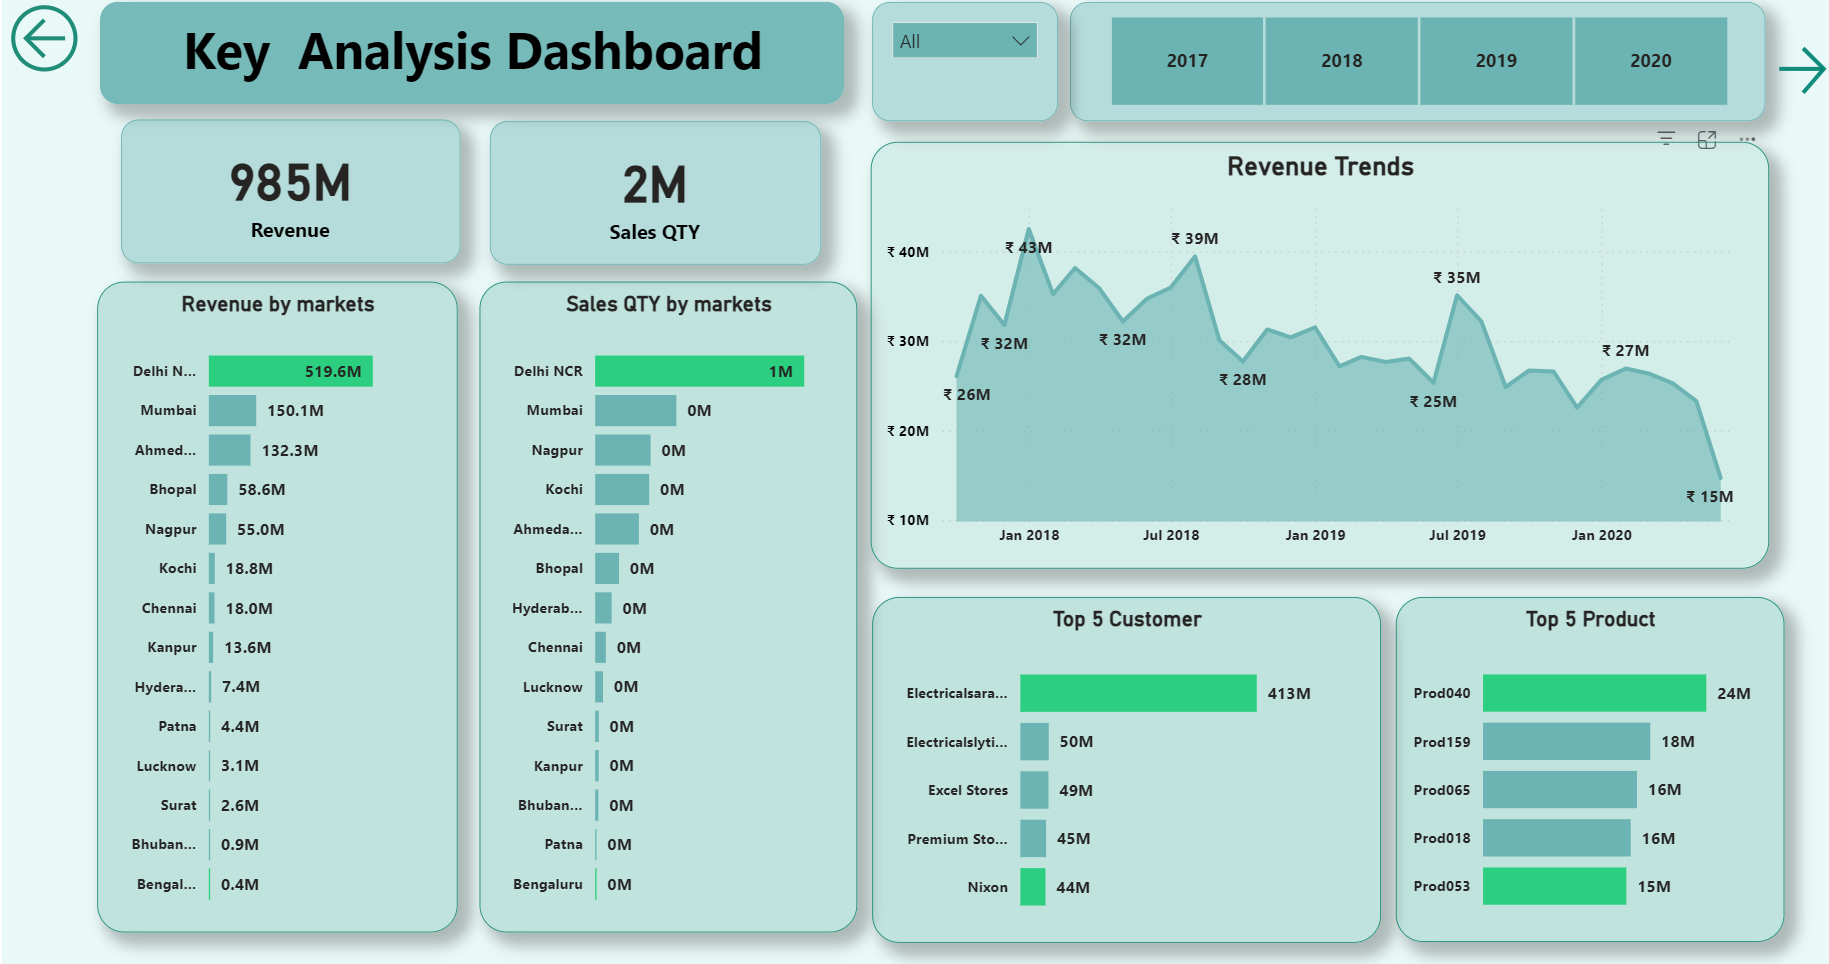

The page's visual inventory and layout, read from the dashboard file:
{"tool":"powerbi","page":{"name":"Key insight","canvas":[1352,720],"ordinal":1},"visuals":[{"type":"slicer","fields":{"Values":["sales date.year"]},"box":[788.9,4.6,513.8,88.2],"z":0},{"type":"card","title":"Revenue","fields":{"Values":["Basemeasure.Revenue"]},"box":[88.1,91.2,250.8,106.4],"z":0,"group":"g1"},{"type":"slicer","fields":{"Values":["sales date.cy_date"]},"box":[643,4.6,136.8,88.2],"z":1000},{"type":"card","title":"Sales Qty","fields":{"Values":["Basemeasure.Sales QTY"]},"box":[360.2,92.7,244.7,106.4],"z":1000,"group":"g1"},{"type":"actionButton","box":[0,0,76.9,62.5],"z":2000},{"type":"clusteredBarChart","title":"Revenue by markets","fields":{"Y":["Basemeasure.Revenue"],"Category":["sales markets.markets_name"]},"box":[71.4,209.8,266,489.5],"z":2000,"group":"g1"},{"type":"textbox","box":[72.1,4.8,549.5,75.3],"z":3000},{"type":"clusteredBarChart","title":"Sales QTY by markets","fields":{"Y":["Basemeasure.Sales QTY"],"Category":["sales markets.markets_name"]},"box":[354.1,209.8,278.2,489.5],"z":3000,"group":"g1"},{"type":"actionButton","box":[1305.8,27.4,45.6,54.7],"z":4000},{"type":"group","id":"g1","title":"Group 1","box":[71.4,91.2,1245.5,608],"z":5000},{"type":"clusteredBarChart","title":"Top 5 Customer","fields":{"Y":["Basemeasure.Revenue"],"Category":["sales customers.custmer_name"]},"box":[643,443.9,375.5,255.4],"z":6000,"group":"g1"},{"type":"clusteredBarChart","title":"Top 5 Product","fields":{"Y":["Basemeasure.Revenue"],"Category":["sales products.product_code"]},"box":[1030.1,443.8,286.8,254.7],"z":7000,"group":"g1"},{"type":"lineChart","title":"Revenue Trends","fields":{"Y":["Basemeasure.Revenue"],"Category":["sales date.cy_date"]},"box":[642.4,107.3,663.3,315.6],"z":8000,"group":"g1"}]}

Visuals, with their boxes in screenshot pixels (x1, y1, x2, y2), scaled from the page's 1352x720 canvas onto the 1829x964 screenshot:
slicer - sales date.year: bbox=[1067, 6, 1762, 124]
"Revenue" card: bbox=[119, 122, 458, 265]
slicer - sales date.cy_date: bbox=[870, 6, 1055, 124]
"Sales Qty" card: bbox=[487, 124, 818, 267]
actionButton: bbox=[0, 0, 104, 84]
"Revenue by markets" clusteredBarChart: bbox=[97, 281, 456, 936]
textbox: bbox=[98, 6, 841, 107]
"Sales QTY by markets" clusteredBarChart: bbox=[479, 281, 855, 936]
actionButton: bbox=[1767, 37, 1828, 110]
"Group 1" group: bbox=[97, 122, 1782, 936]
"Top 5 Customer" clusteredBarChart: bbox=[870, 594, 1378, 936]
"Top 5 Product" clusteredBarChart: bbox=[1394, 594, 1782, 935]
"Revenue Trends" lineChart: bbox=[869, 144, 1766, 566]
